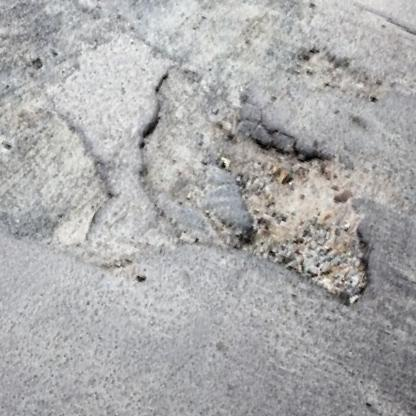pothole: (191, 110, 413, 312), (290, 39, 381, 109)
